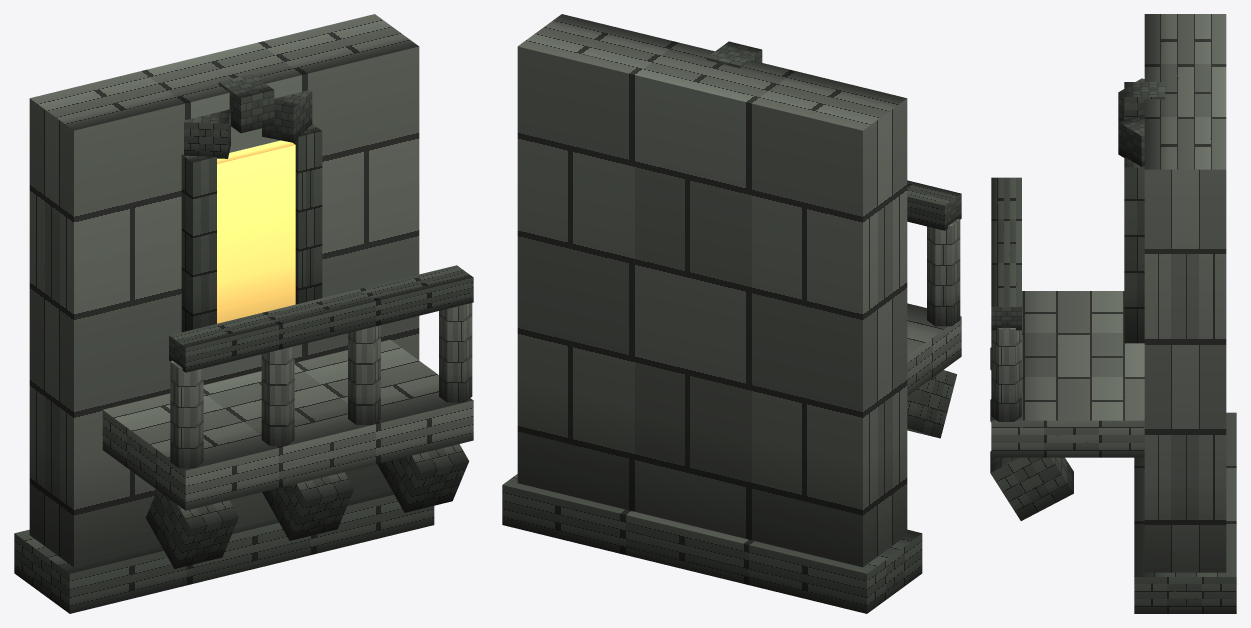
File: balcony.gltf
The picture shows the model from 3 angles, left to right: view 1: azimuth 30°, elevation 25°; view 2: azimuth 150°, elevation 25°; view 3: azimuth 270°, elevation 25°; orthographic projection. The views are drawn at different scales.
Parts seen in each view (by area): view 1: balcony; view 2: balcony; view 3: balcony.
Boxes of the visible parts, bbox=[...] form: balcony: bbox=[14, 14, 473, 613]; balcony: bbox=[502, 14, 961, 613]; balcony: bbox=[990, 14, 1236, 613].
Bounding box in the file's own units: 0.76 × 0.955 × 0.482.
Materials: 1 (1 with a texture image).
